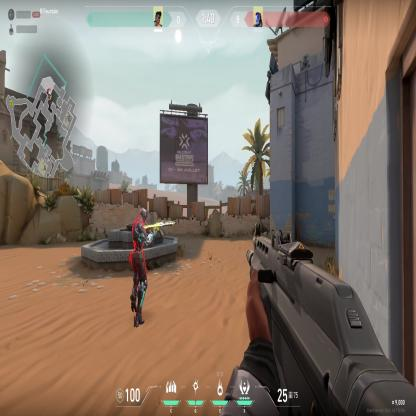enemy: (126, 204, 164, 329)
